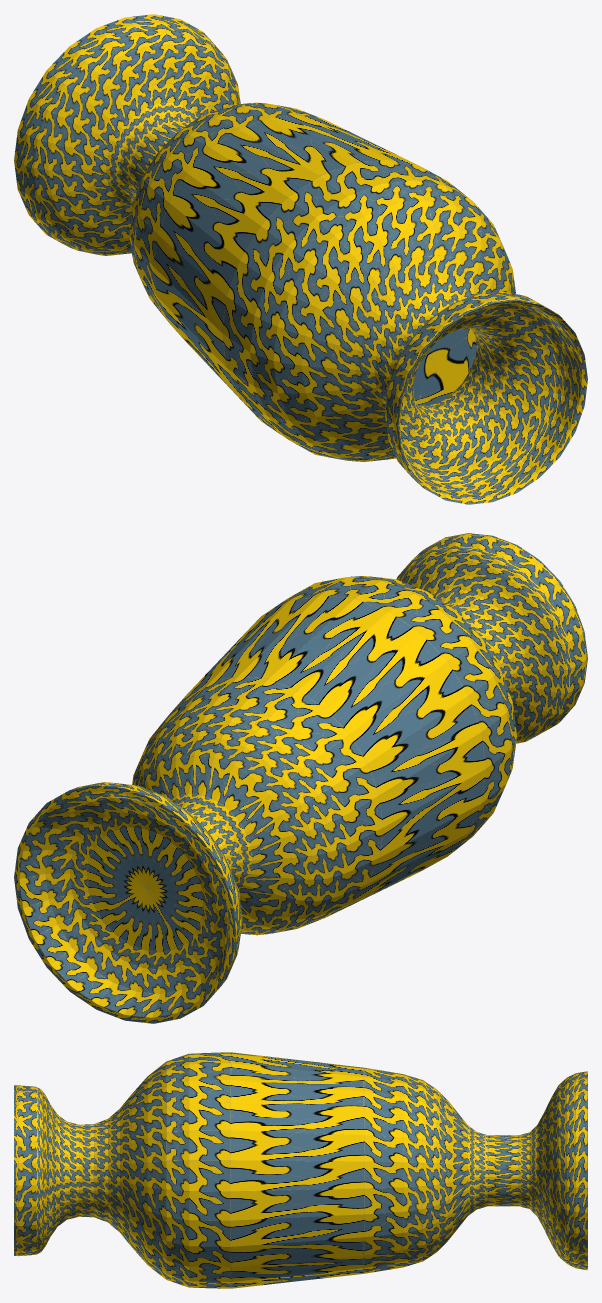
The model's file is brass_vase.fbx.
The picture shows the model from 3 angles, top to bottom: view 1: azimuth 30°, elevation 25°; view 2: azimuth 150°, elevation 25°; view 3: azimuth 270°, elevation 25°; orthographic projection. The views are drawn at different scales.
Visible parts, largest first — view 1: brass_vase; view 2: brass_vase; view 3: brass_vase.
Boxes of the visible parts, x1=… form: brass_vase: x1=14, y1=14, x2=587, y2=504; brass_vase: x1=14, y1=533, x2=587, y2=1023; brass_vase: x1=14, y1=1052, x2=587, y2=1288.
Bounding box in the file's own units: 0.0825 × 0.0825 × 0.1997.
Materials: 1 (1 with a texture image).
